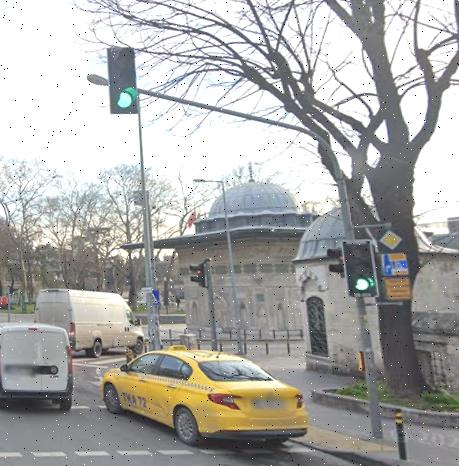greenlight: (108, 45, 137, 112), (347, 238, 377, 295)
